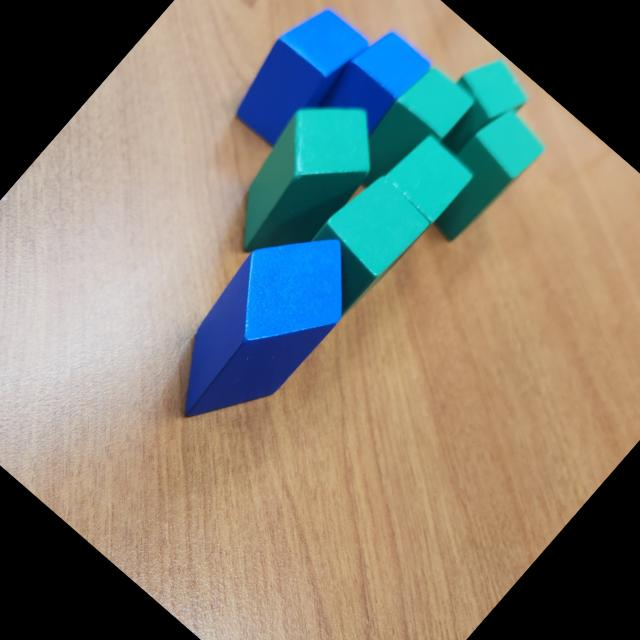blue: (139, 202, 379, 454), (219, 0, 375, 156), (310, 21, 436, 150)
green: (205, 76, 403, 283), (329, 124, 481, 285), (280, 170, 432, 326), (338, 58, 480, 208), (412, 102, 552, 250), (418, 45, 540, 170)
